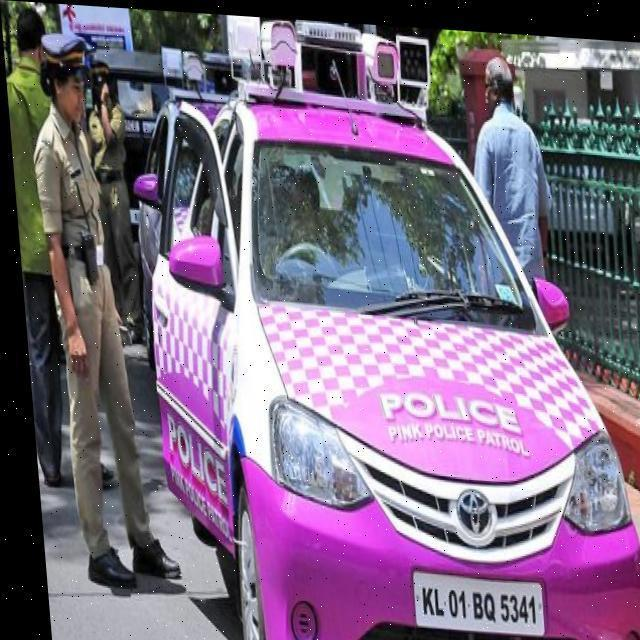Ambulance: (115, 17, 640, 640), (22, 330, 640, 640), (19, 24, 174, 596), (220, 11, 434, 120)
